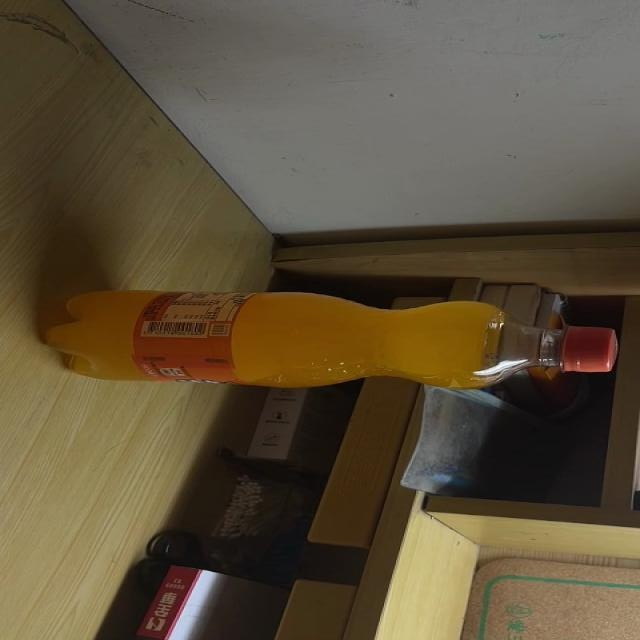Fanta: (44, 292, 620, 388)
